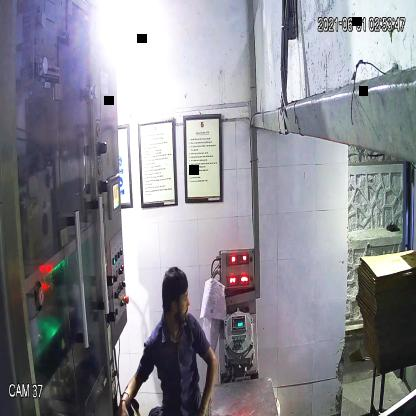no_goggles: (161, 291, 191, 310)
